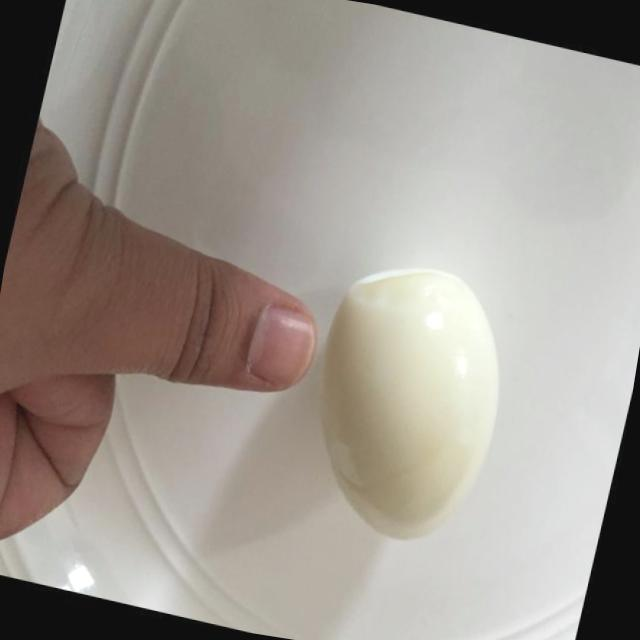Egg: (280, 234, 535, 566)
Finger: (140, 234, 340, 418)
